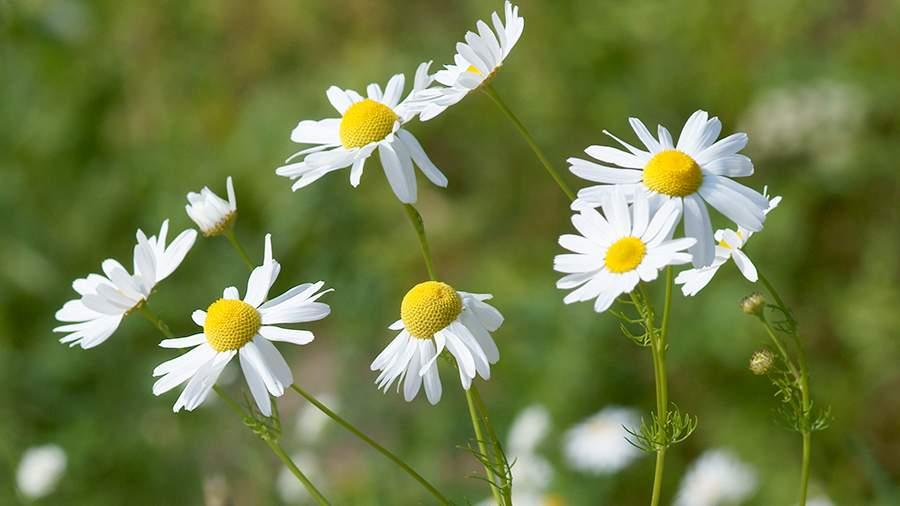chamomile: (153, 250, 323, 420), (43, 195, 186, 354), (362, 265, 488, 401), (293, 55, 423, 182), (553, 188, 686, 310), (604, 117, 743, 228), (424, 13, 516, 114), (190, 150, 236, 246)
